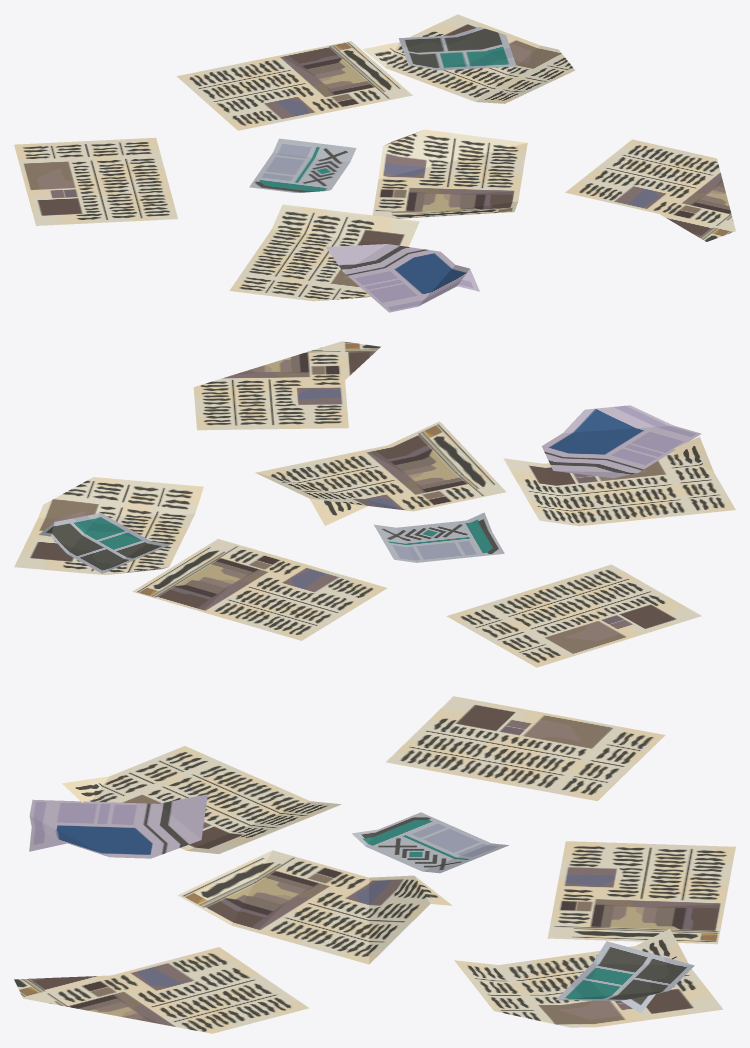
File: SM_Prop_Junk_Paper_08.fbx
The picture shows the model from 3 angles, top to bottom: view 1: azimuth 30°, elevation 25°; view 2: azimuth 150°, elevation 25°; view 3: azimuth 270°, elevation 25°; orthographic projection. The views are drawn at different scales.
Visible parts, largest first — view 1: SM_Prop_Junk_Paper_08; view 2: SM_Prop_Junk_Paper_08; view 3: SM_Prop_Junk_Paper_08.
Boxes of the visible parts, x1=… form: SM_Prop_Junk_Paper_08: x1=14, y1=14, x2=735, y2=312; SM_Prop_Junk_Paper_08: x1=14, y1=341, x2=735, y2=667; SM_Prop_Junk_Paper_08: x1=14, y1=696, x2=735, y2=1033.
Size of the model in its own units: 198 by 4.32 by 179.
